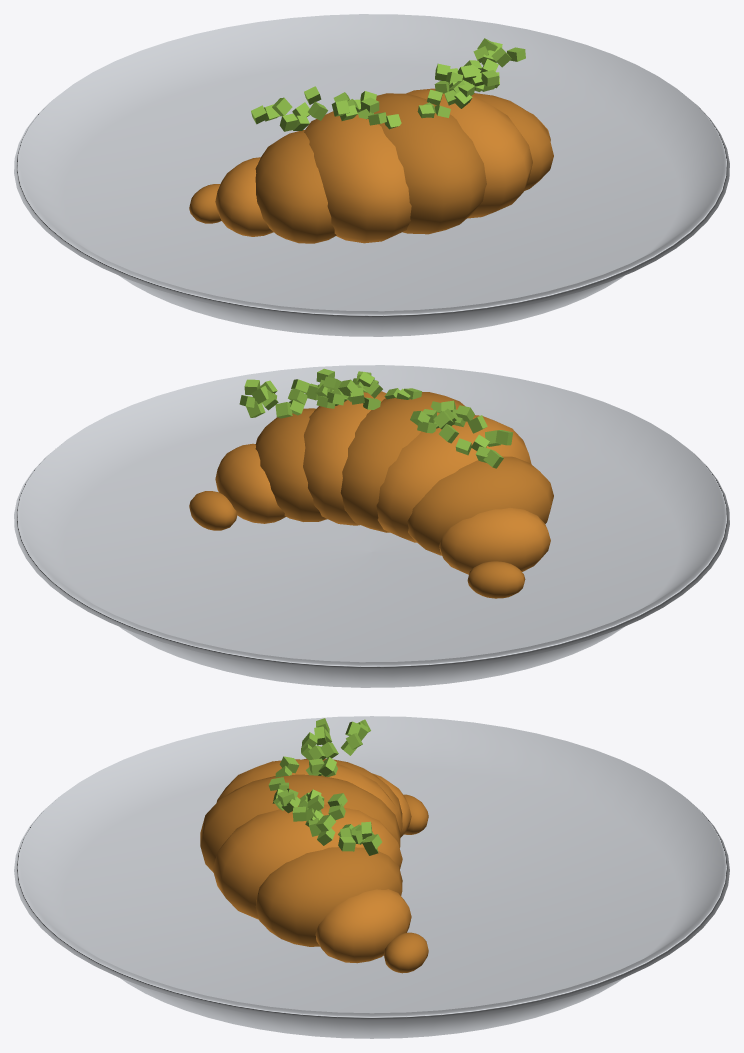
The model's file is alba-croissant-pistacchio-o-mandorla.glb.
The picture shows the model from 3 angles, top to bottom: view 1: azimuth 30°, elevation 25°; view 2: azimuth 150°, elevation 25°; view 3: azimuth 270°, elevation 25°; orthographic projection.
Bounding box in the file's own units: 0.22 × 0.0509 × 0.22.
